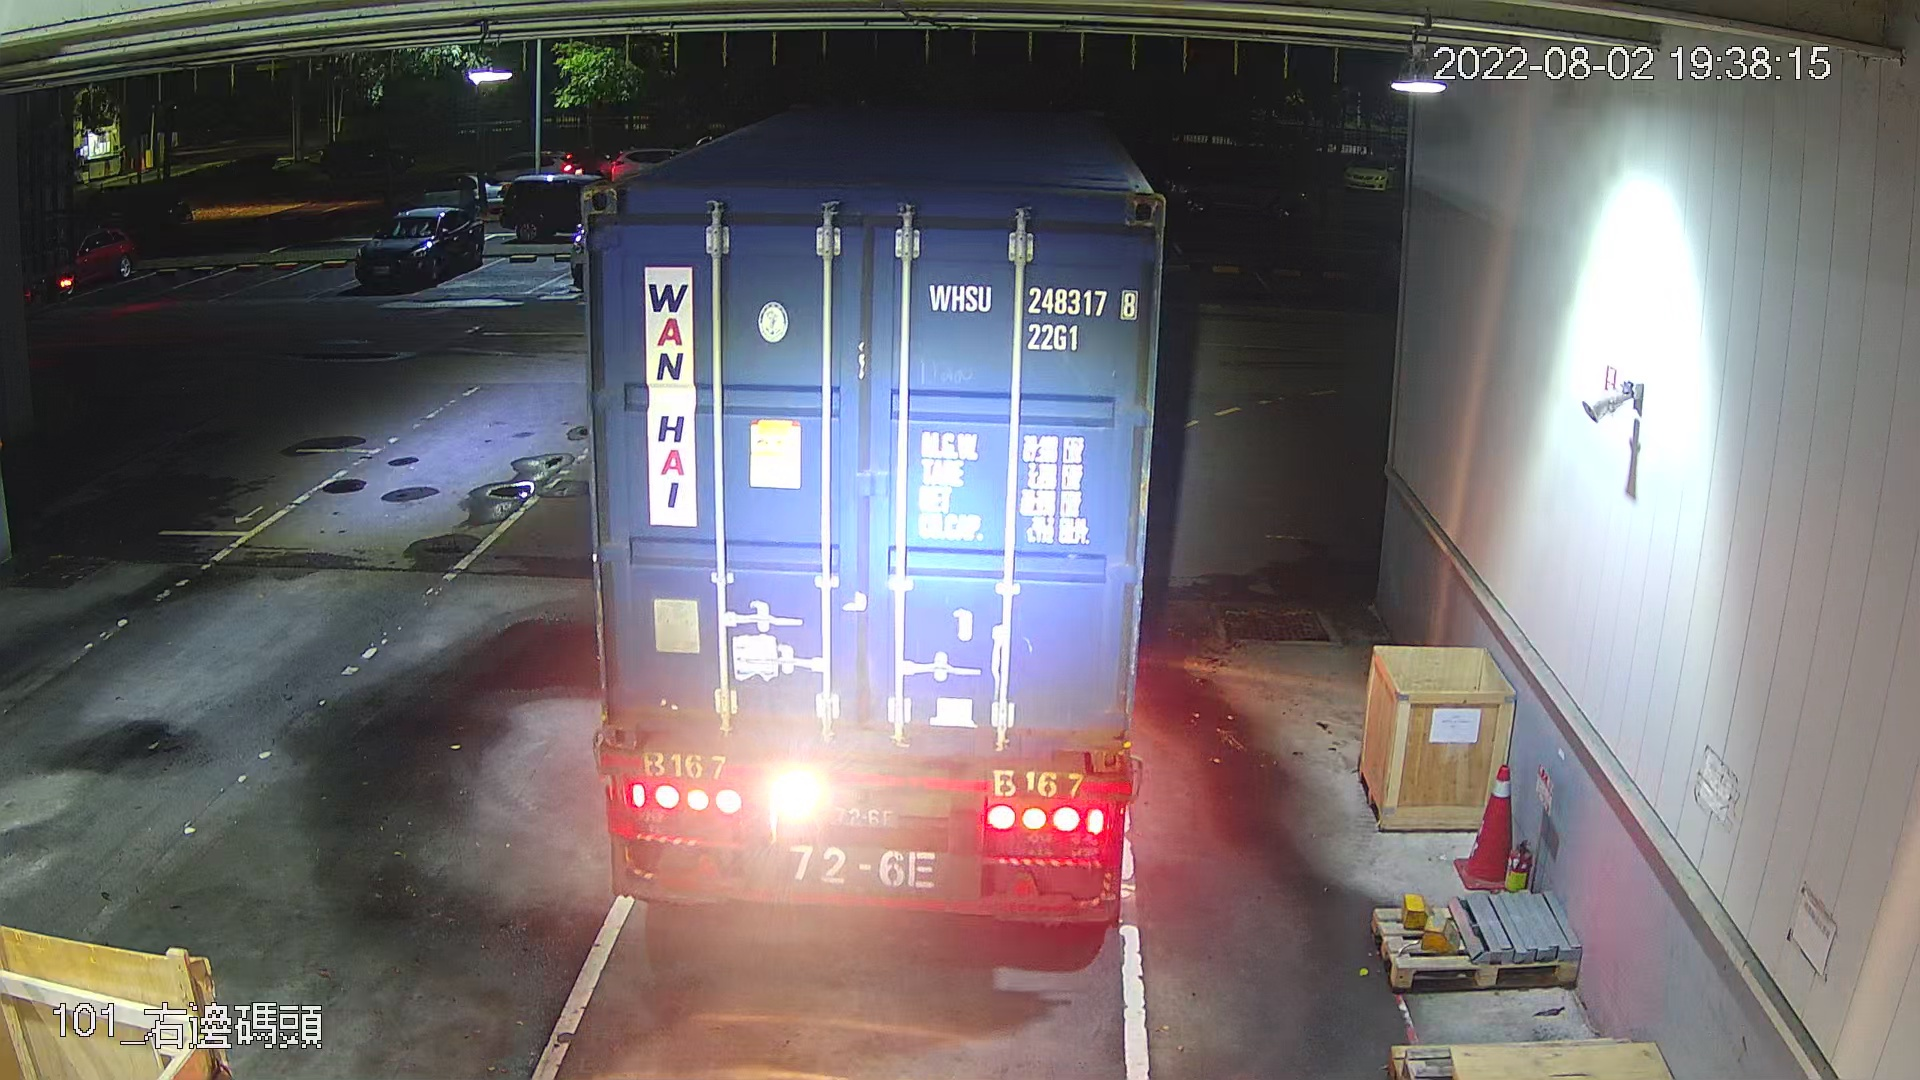container: (916, 273, 1149, 360)
